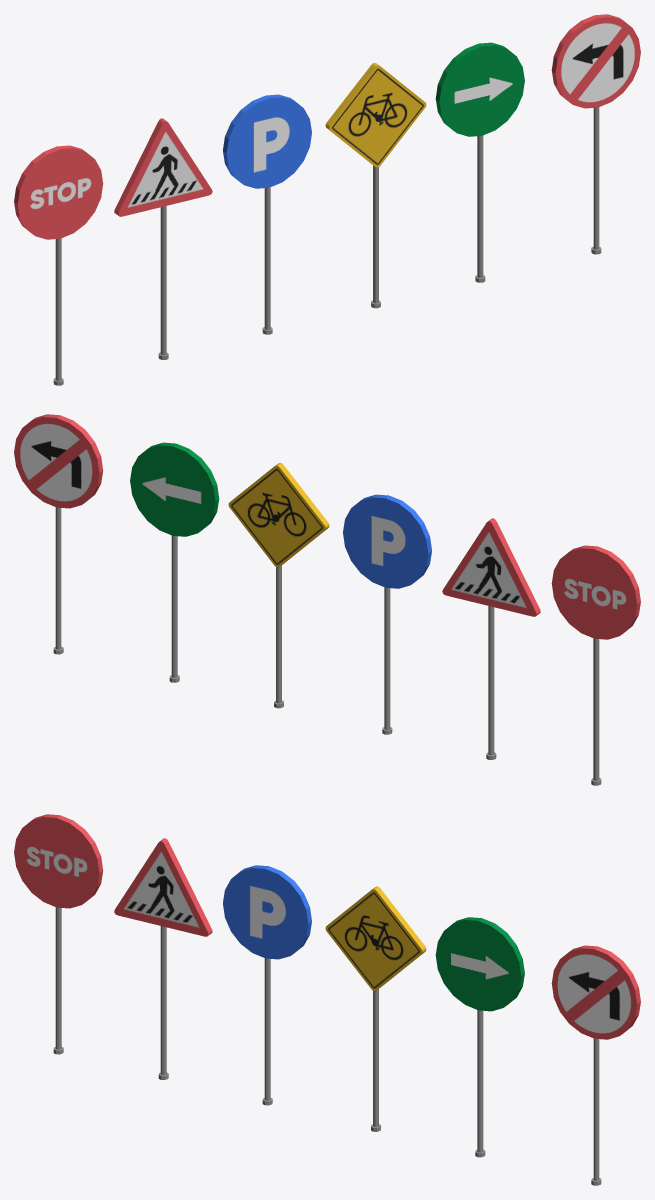
Rendered from D1_TRAFFIC_SIGNS.fbx.
3 renders of one model, top to bottom at view 1: azimuth 30°, elevation 25°; view 2: azimuth 150°, elevation 25°; view 3: azimuth 330°, elevation 25°, orthographic.
Parts seen in each view (by area): view 1: D1_SIGNAGE_NOTURN, D1_SIGNAGE_EXIT, D1_SIGNAGE_STOP, D1_SIGNAGE_PARKING, D1_SIGNAGE_BICYCLE, D1_SIGNAGE_CROSSWALK; view 2: D1_SIGNAGE_NOTURN, D1_SIGNAGE_EXIT, D1_SIGNAGE_STOP, D1_SIGNAGE_PARKING, D1_SIGNAGE_BICYCLE, D1_SIGNAGE_CROSSWALK; view 3: D1_SIGNAGE_STOP, D1_SIGNAGE_NOTURN, D1_SIGNAGE_EXIT, D1_SIGNAGE_PARKING, D1_SIGNAGE_BICYCLE, D1_SIGNAGE_CROSSWALK.
Part boxes in pixels (box(x1,y1,x2,y2)): D1_SIGNAGE_NOTURN: box(551, 14, 640, 254); D1_SIGNAGE_EXIT: box(435, 42, 524, 282); D1_SIGNAGE_STOP: box(14, 145, 103, 385); D1_SIGNAGE_PARKING: box(223, 94, 311, 334); D1_SIGNAGE_BICYCLE: box(325, 63, 426, 308); D1_SIGNAGE_CROSSWALK: box(114, 118, 212, 359); D1_SIGNAGE_NOTURN: box(14, 414, 103, 654); D1_SIGNAGE_EXIT: box(130, 442, 219, 682); D1_SIGNAGE_STOP: box(551, 545, 640, 785); D1_SIGNAGE_PARKING: box(343, 494, 431, 734); D1_SIGNAGE_BICYCLE: box(228, 463, 329, 708); D1_SIGNAGE_CROSSWALK: box(442, 518, 540, 759); D1_SIGNAGE_STOP: box(14, 814, 103, 1054); D1_SIGNAGE_NOTURN: box(551, 945, 640, 1185); D1_SIGNAGE_EXIT: box(435, 917, 524, 1157); D1_SIGNAGE_PARKING: box(223, 865, 311, 1105); D1_SIGNAGE_BICYCLE: box(325, 886, 426, 1131); D1_SIGNAGE_CROSSWALK: box(114, 838, 212, 1079).
Bounding box in the file's own units: 773 × 287 × 11.91.
7 materials, 6 textured.
